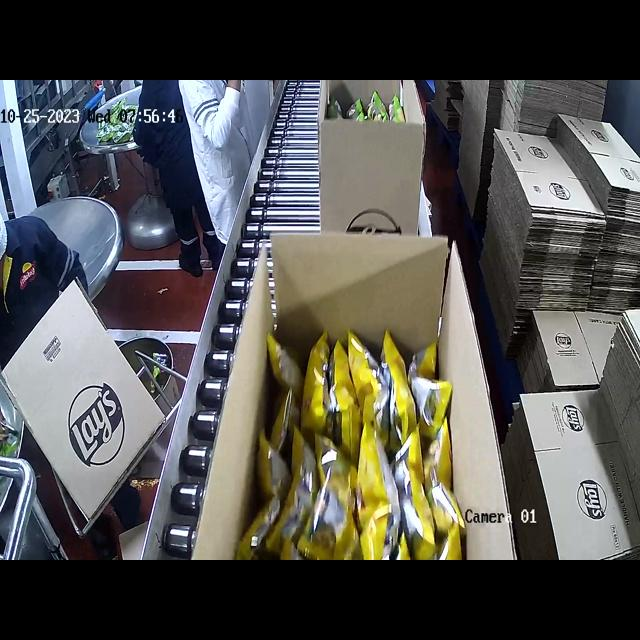salted: (266, 328, 453, 560)
yogurt: (329, 86, 405, 122)
